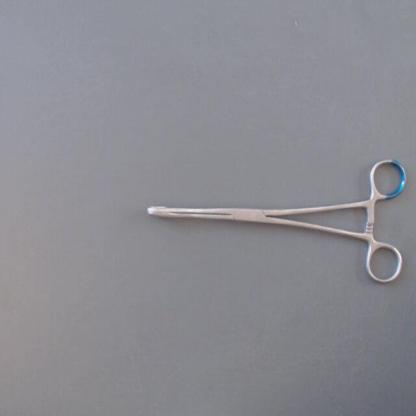Sponge Forceps: (142, 154, 410, 289)
